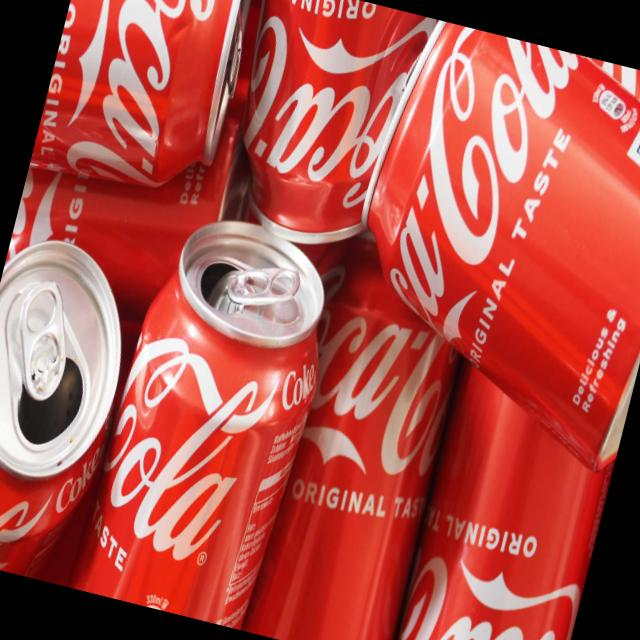cocacola: (330, 17, 640, 476), (79, 210, 343, 632), (234, 228, 492, 640), (382, 291, 640, 640), (2, 22, 278, 327), (205, 0, 426, 269), (0, 215, 159, 588), (30, 0, 266, 206)
